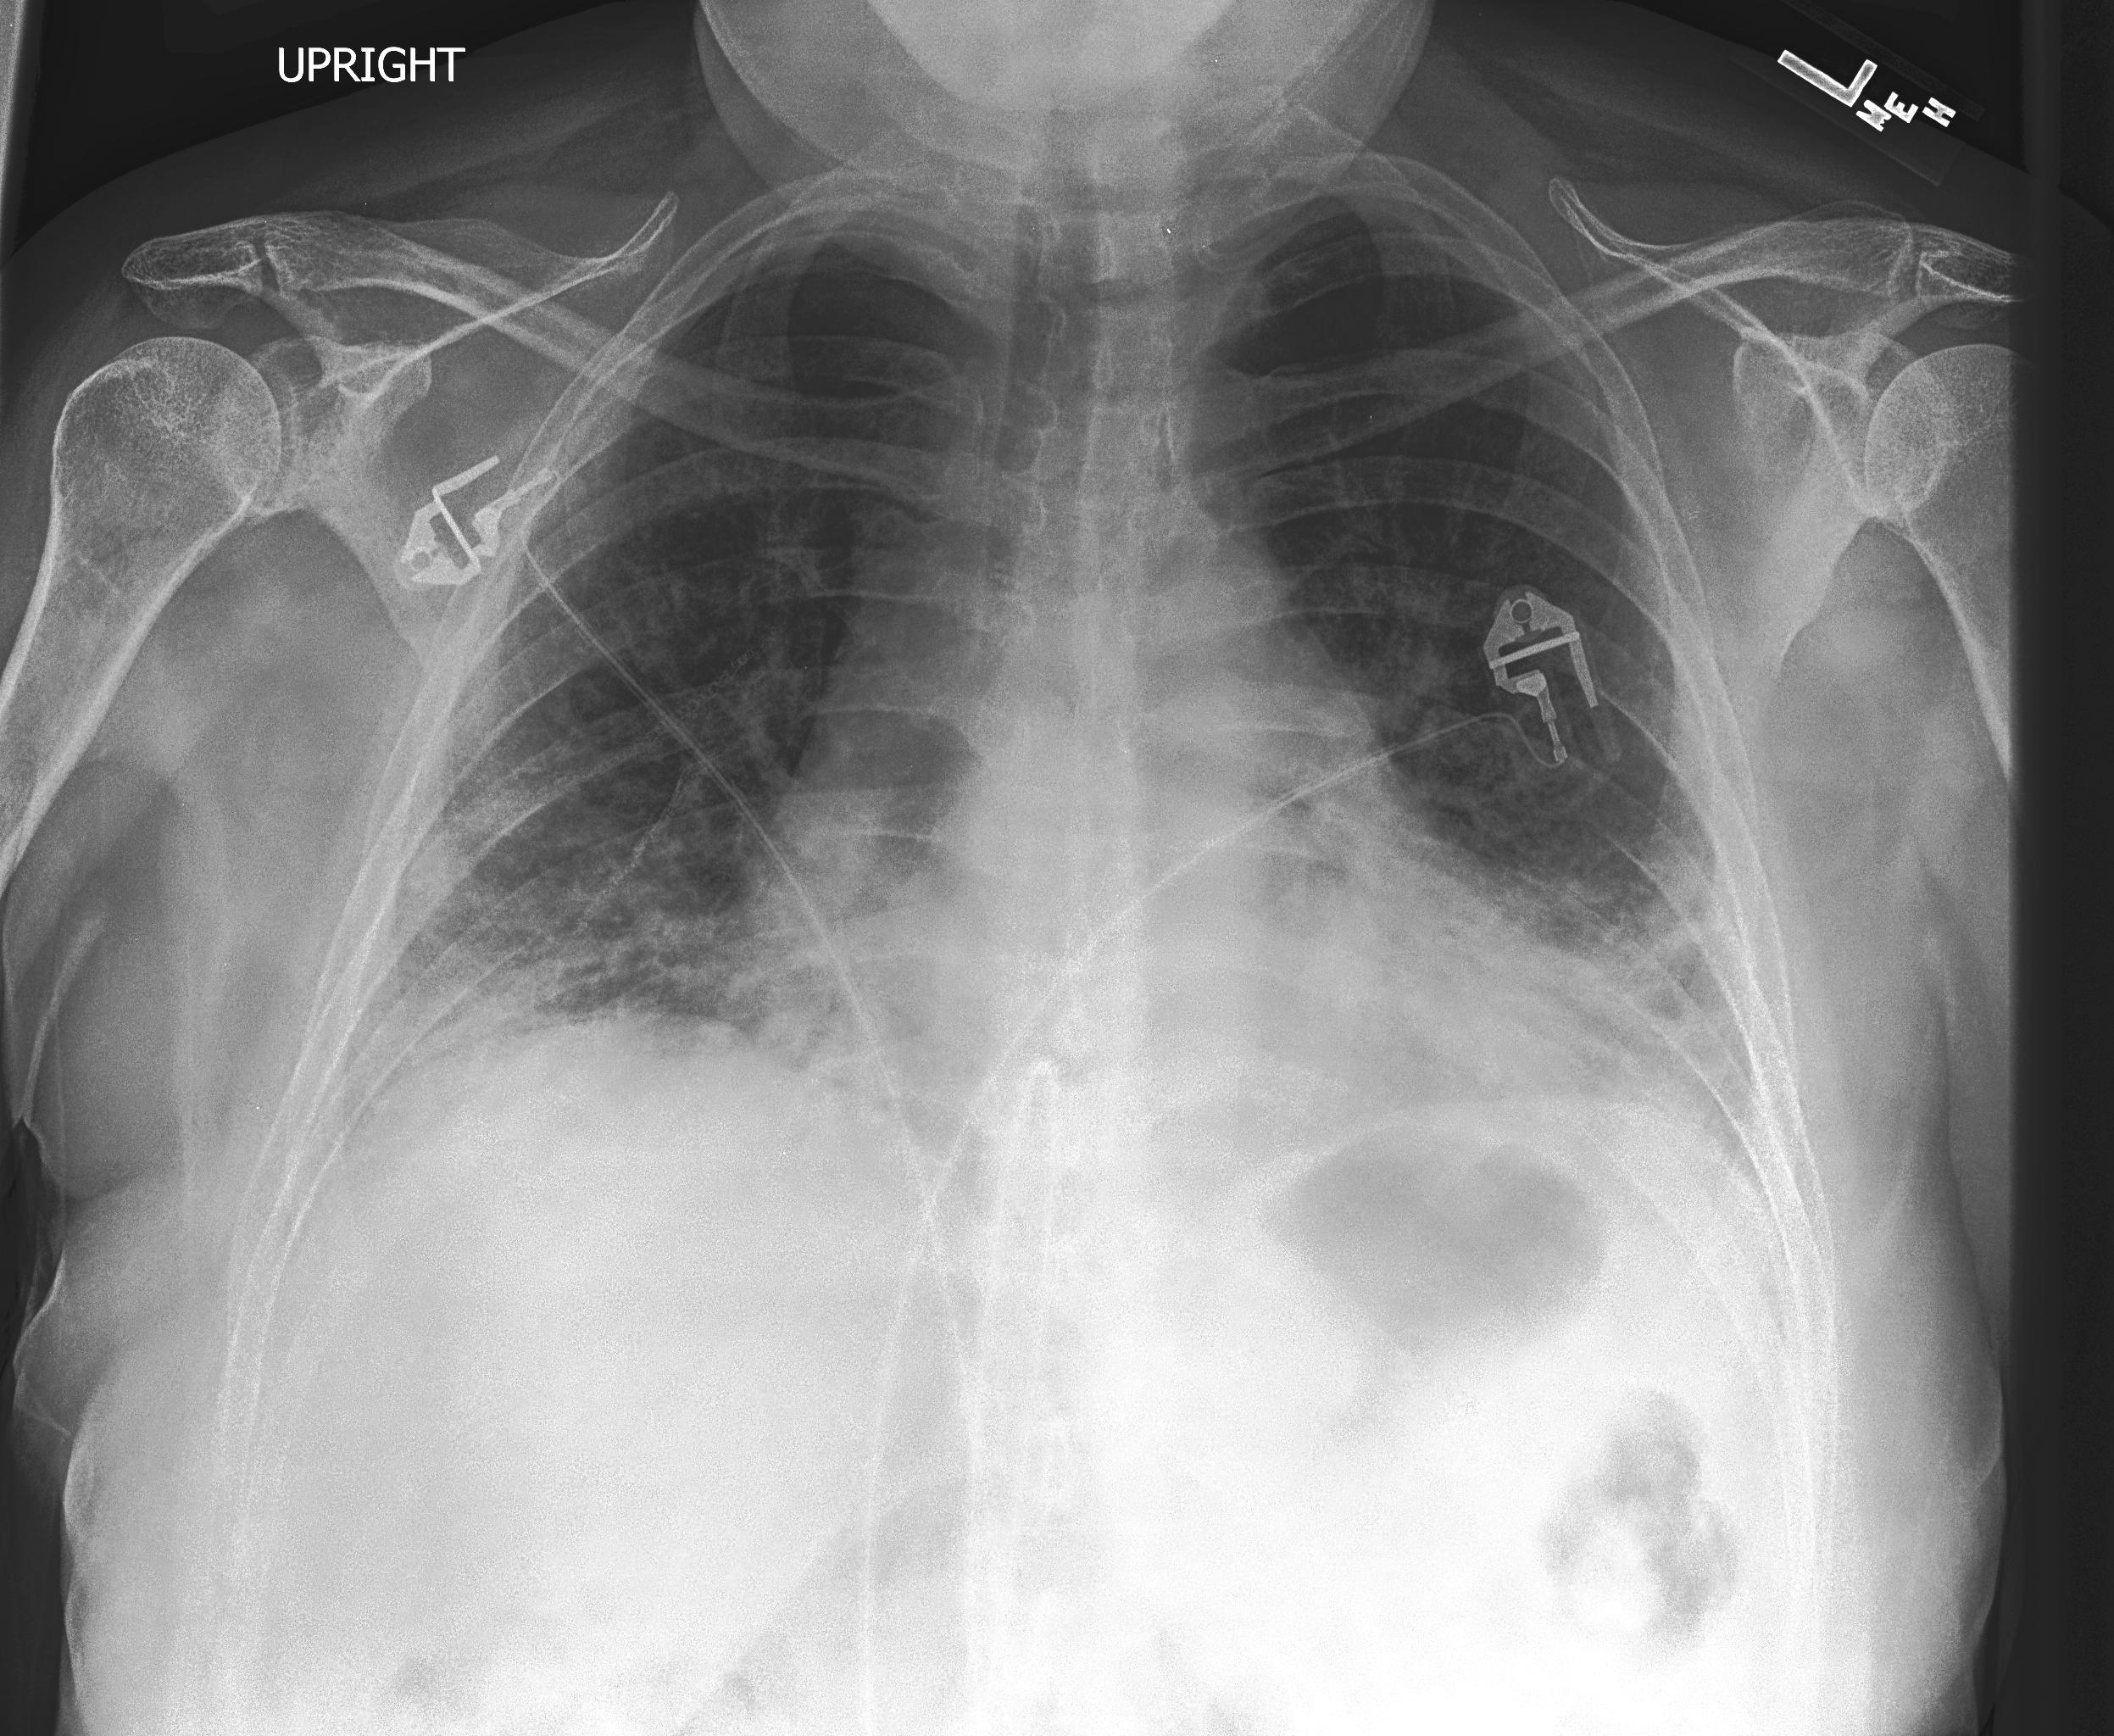Pleural Effusion: (228, 922, 797, 1420), (1447, 965, 1861, 1411)
